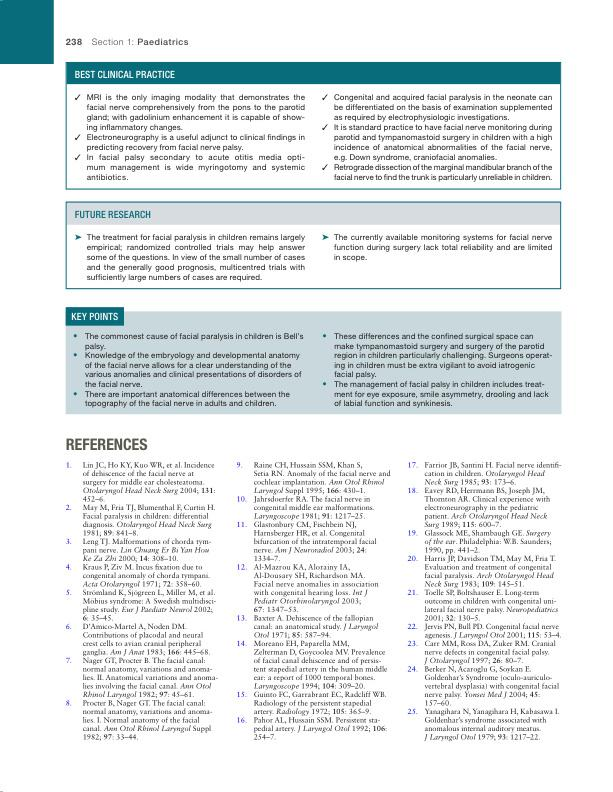caption: (74, 69, 176, 80), (74, 210, 151, 219), (71, 311, 120, 322)
header: (91, 37, 189, 46)
list: (406, 460, 563, 742), (64, 460, 219, 744), (236, 460, 392, 742), (320, 92, 553, 183), (73, 91, 307, 181), (70, 332, 305, 410), (322, 332, 554, 409), (72, 232, 307, 284), (319, 231, 555, 264)
section-heading: (64, 436, 148, 451)
